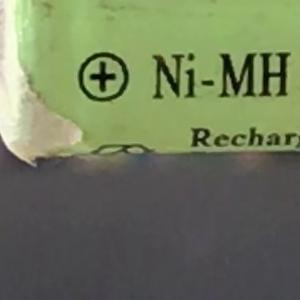keyword: (143, 42, 295, 109)
